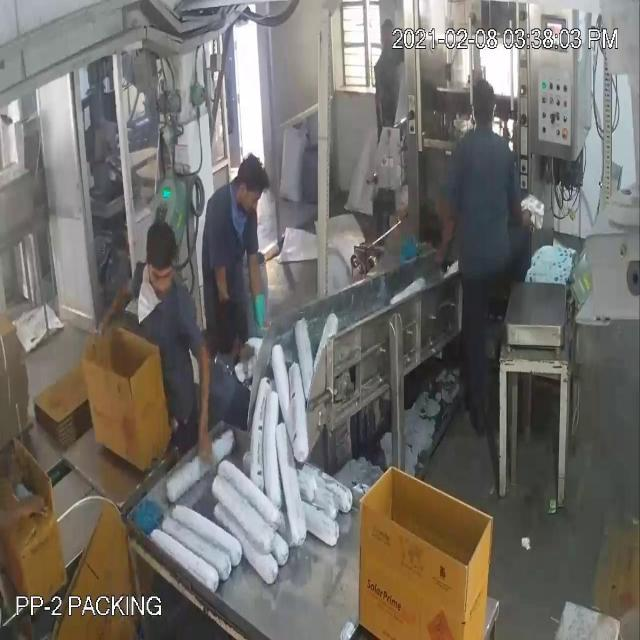No_Gloves: (29, 54, 202, 505)
